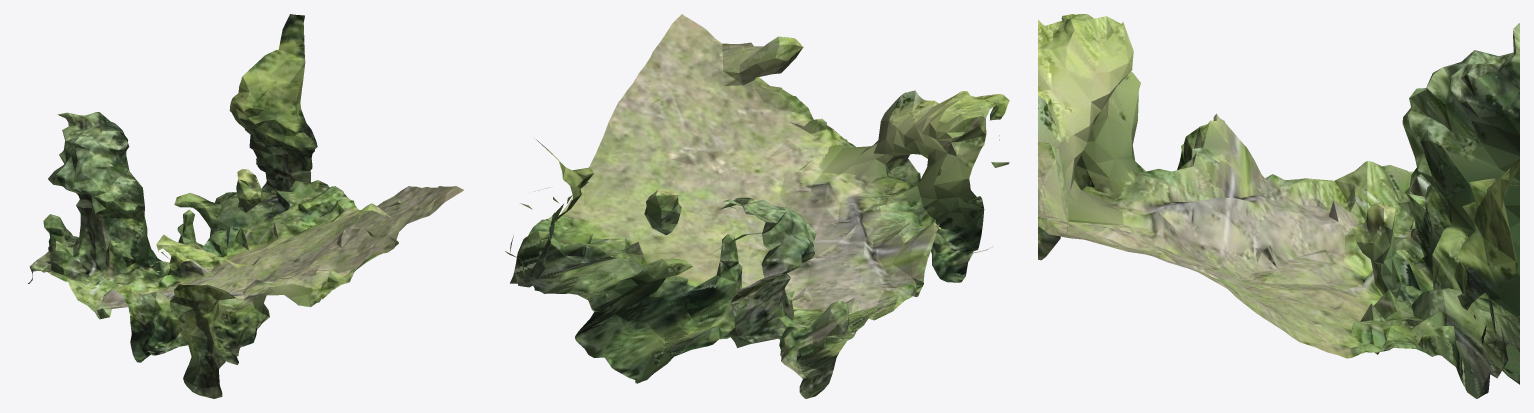
The picture shows the model from 3 angles, left to right: view 1: azimuth 30°, elevation 25°; view 2: azimuth 150°, elevation 25°; view 3: azimuth 270°, elevation 25°; orthographic projection. The views are drawn at different scales.
Size of the model in its own units: 26.11 by 19.96 by 26.11.
Materials: 5 (5 with a texture image).
